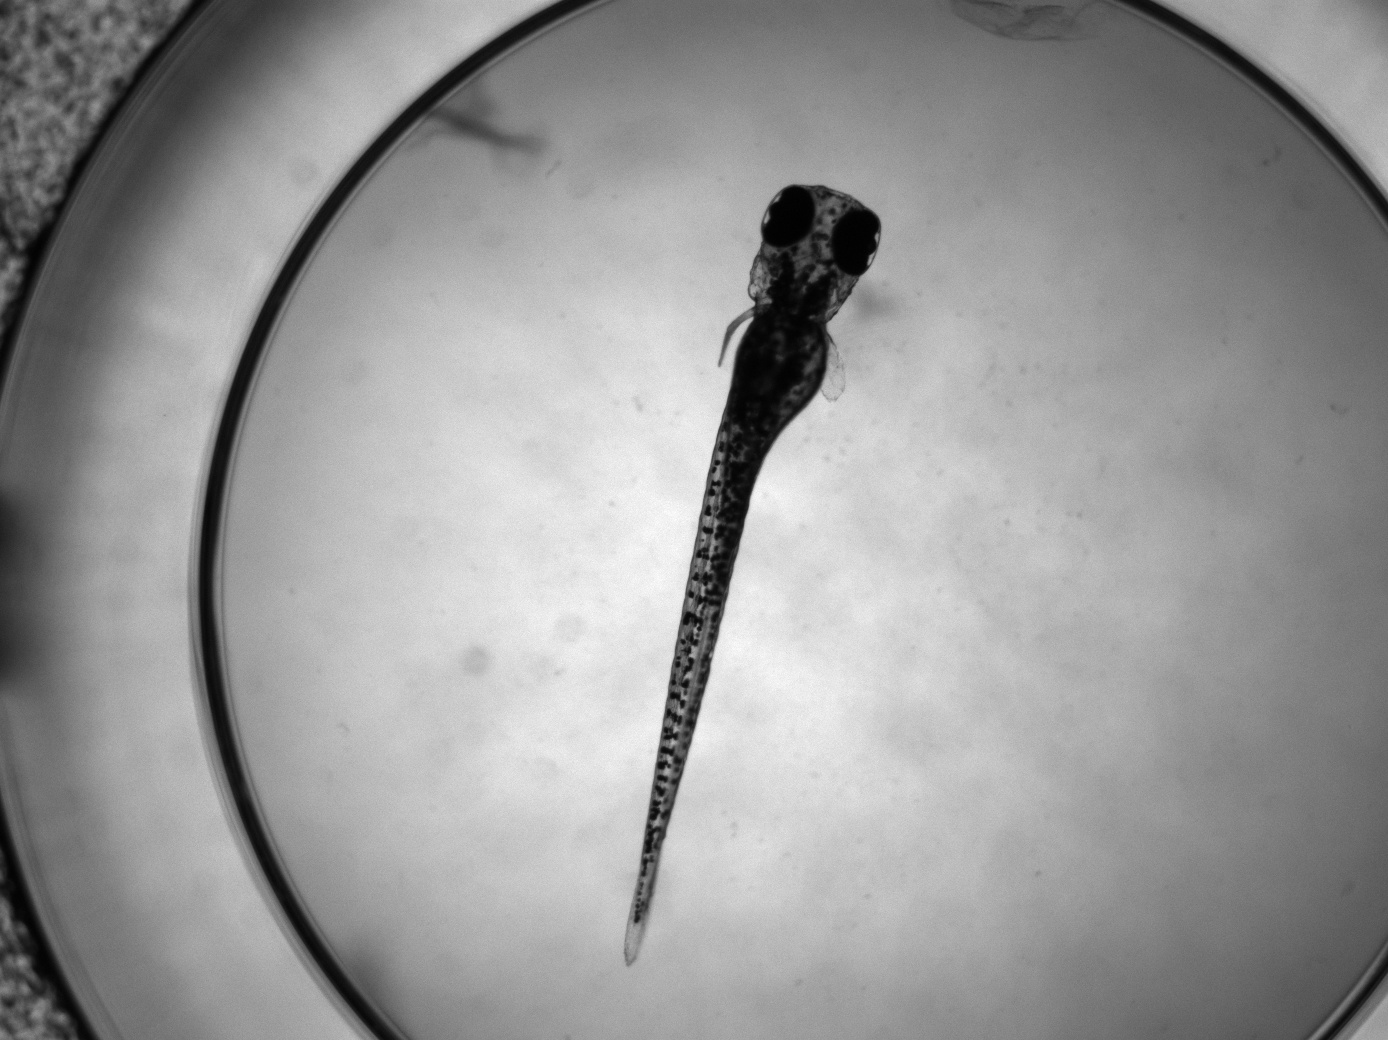embryo: (619, 185, 882, 967)
eye: (830, 208, 881, 275), (760, 185, 814, 248)
yolksac: (732, 315, 828, 423)
